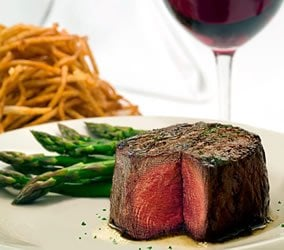soup: (107, 121, 272, 240)
